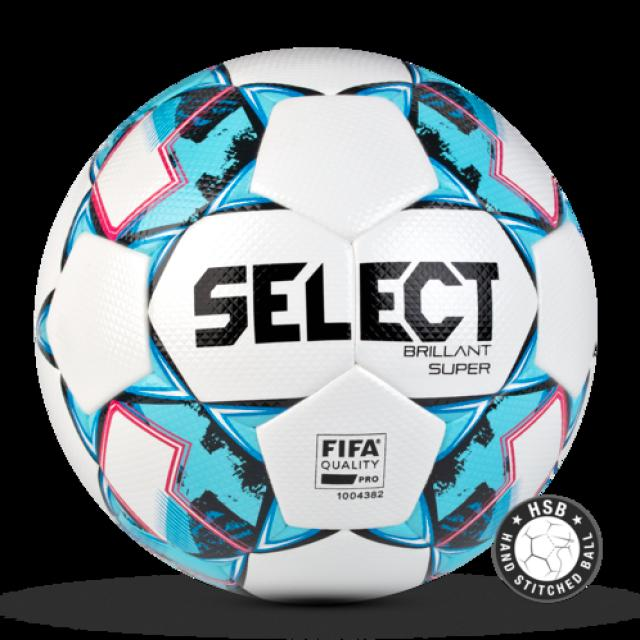soccer ball: (36, 48, 596, 606)
